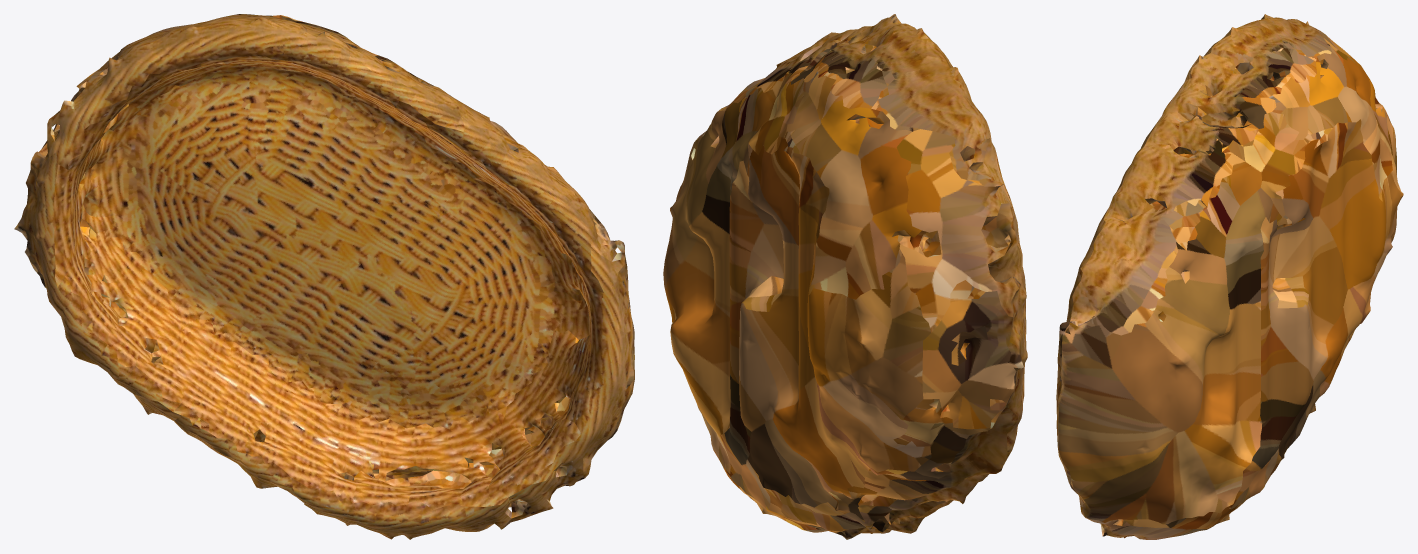
The model's file is object-good-example-1.glb.
3 views of the same model, side by side, from view 1: azimuth 30°, elevation 25°; view 2: azimuth 150°, elevation 25°; view 3: azimuth 270°, elevation 25° (orthographic). The views are drawn at different scales.
Parts seen in each view (by area): view 1: textured_mesh; view 2: textured_mesh; view 3: textured_mesh.
Boxes of the visible parts, box(x1,y1,x2,y2) form: textured_mesh: box(14, 14, 634, 539); textured_mesh: box(663, 14, 1027, 539); textured_mesh: box(1056, 14, 1403, 539).
Bounding box in the file's own units: 0.2958 × 0.3198 × 0.2243.
Materials: 1 (1 with a texture image).
